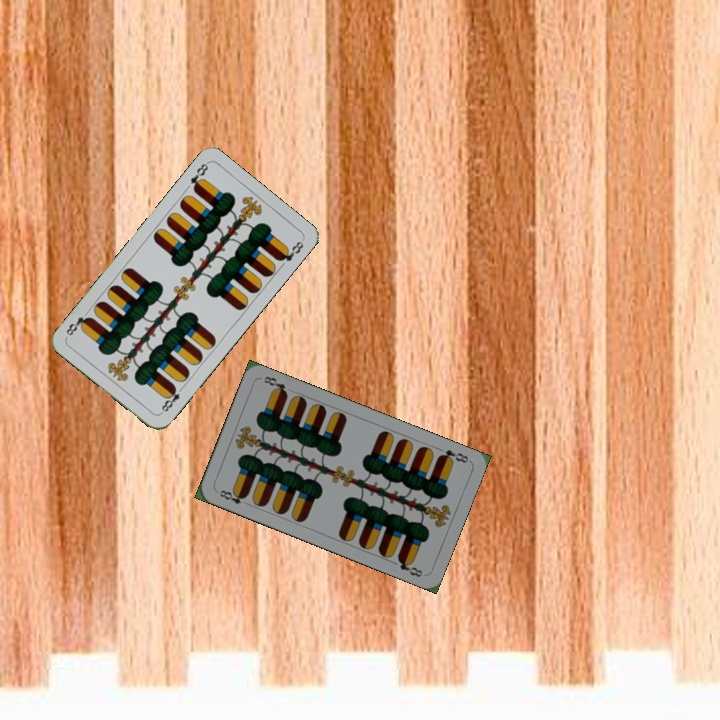E8: (156, 382, 187, 416), (186, 159, 211, 194), (434, 445, 471, 466), (213, 486, 249, 507)
